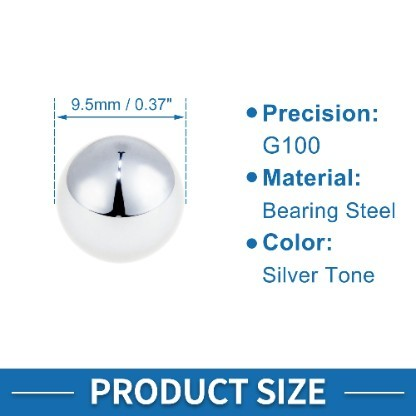ironball: (55, 134, 184, 263)
